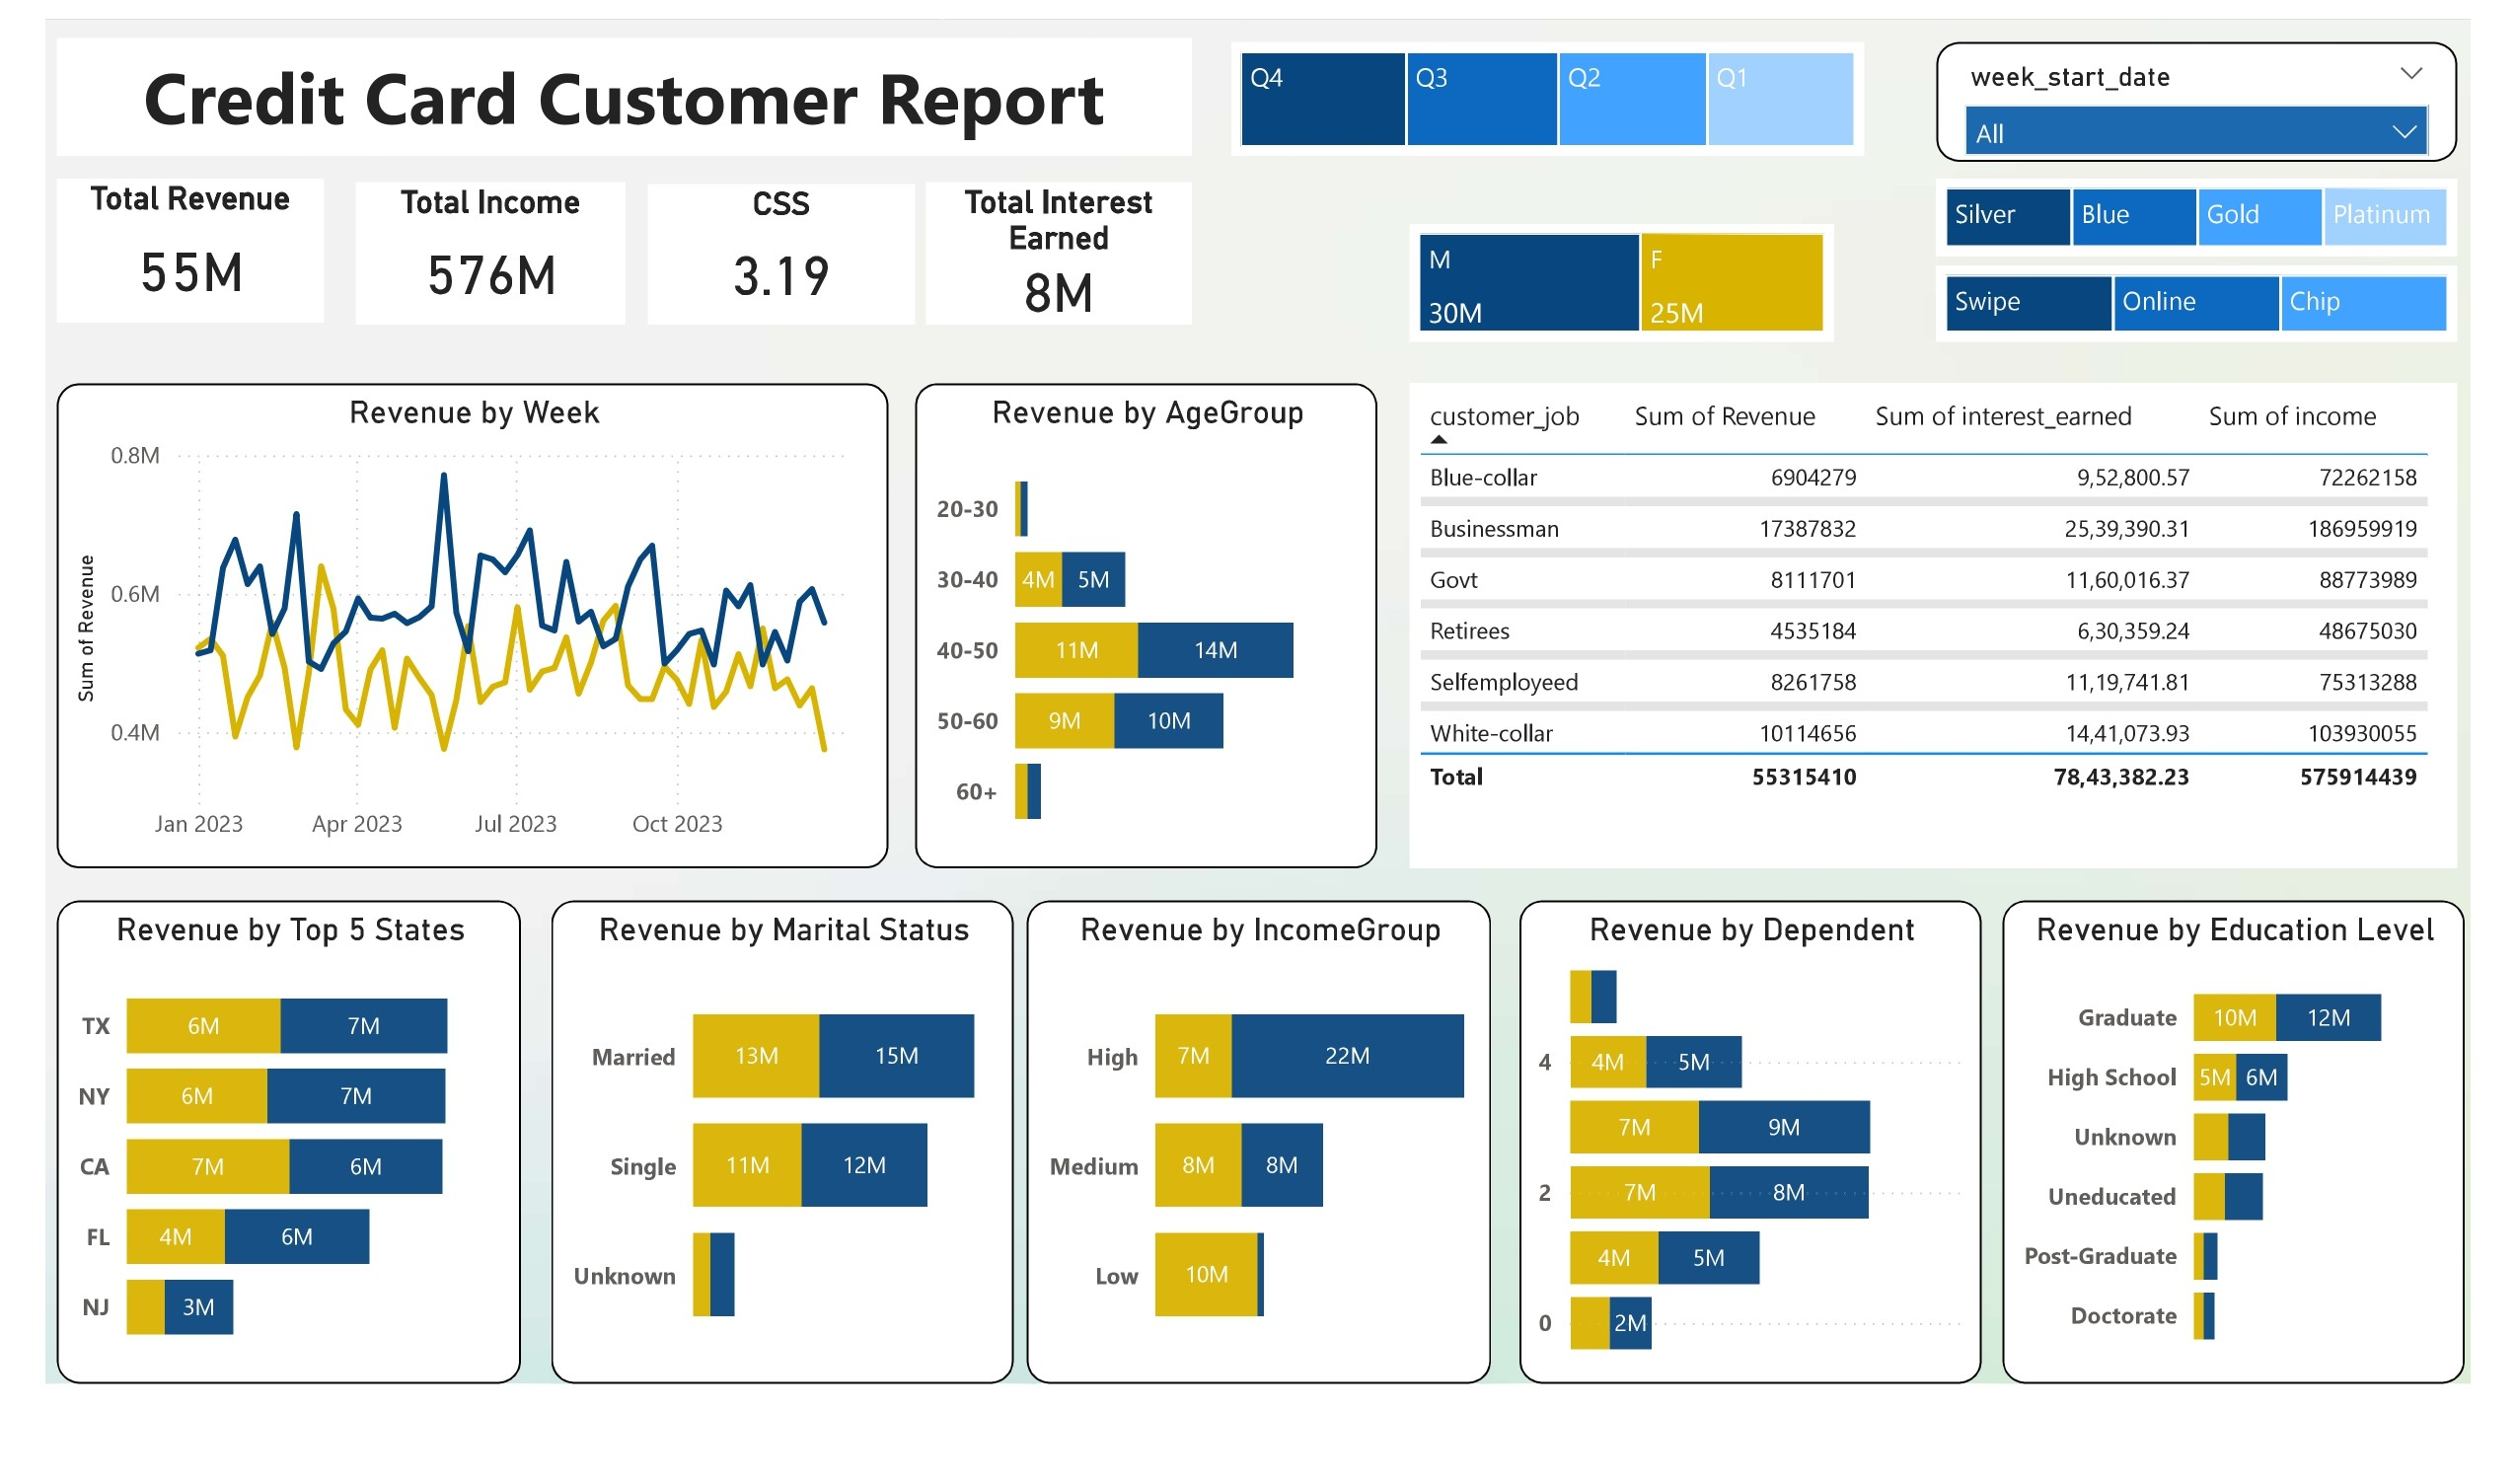

The page's visual inventory and layout, read from the dashboard file:
{"tool":"powerbi","page":{"name":"Page 3","canvas":[1280,720],"ordinal":2},"visuals":[{"type":"textbox","box":[6.1,9.8,599.2,62.4],"z":0},{"type":"barChart","title":" Revenue by IncomeGroup","fields":{"Y":["Sum(public cc_detail.Revenue)"],"Category":["public cust_detail.IncomeGroup"],"Series":["public cust_detail.gender"]},"box":[518.5,464.7,244.6,255.6],"z":1000},{"type":"tableEx","fields":{"Values":["public cust_detail.customer_job","Sum(public cc_detail.Revenue)","Sum(public cc_detail.interest_earned)","Sum(public cust_detail.income)"]},"box":[720.2,192,552.7,255.6],"z":2000},{"type":"card","title":" Total Revenue","fields":{"Values":["Sum(public cc_detail.Revenue)"]},"box":[6.1,84.4,140.6,75.8],"z":3000},{"type":"card","title":"CSS","fields":{"Values":["Avg(public cust_detail.cust_satisfaction_score)"]},"box":[317.9,86.8,140.6,74.6],"z":4000},{"type":"card","title":"Total Interest Earned","fields":{"Values":["Sum(public cc_detail.interest_earned)"]},"box":[464.7,85.6,140.6,75.8],"z":5000},{"type":"card","title":"Total Income","fields":{"Values":["Sum(public cust_detail.income)"]},"box":[163.9,85.6,141.8,75.8],"z":6000},{"type":"slicer","fields":{"Values":["public cc_detail.week_start_date"]},"box":[997.8,12.2,275.1,62.4],"z":7000},{"type":"treemap","fields":{"Group":["public cc_detail.qtr"],"Values":["Avg(public cust_detail.client_num)"]},"box":[626.1,12.2,333.8,59.9],"z":8000},{"type":"treemap","fields":{"Group":["public cc_detail.card_category"],"Values":["Avg(public cust_detail.client_num)"]},"box":[997.8,84.4,275.1,40.4],"z":9000},{"type":"lineChart","title":"Revenue by Week","fields":{"Y":["Sum(public cc_detail.Revenue)"],"Series":["public cust_detail.gender"],"Category":["public cc_detail.week_start_date.Variation.Date Hierarchy.Year","public cc_detail.week_start_date.Variation.Date Hierarchy.Month","public cc_detail.week_start_date.Variation.Date Hierarchy.Day"]},"box":[6.1,192,439,255.6],"z":10000},{"type":"treemap","fields":{"Group":["public cust_detail.gender"],"Values":["Sum(public cc_detail.Revenue)"]},"box":[720.2,107.6,223.8,62.4],"z":11000},{"type":"barChart","title":" Revenue by AgeGroup","fields":{"Y":["Sum(public cc_detail.Revenue)"],"Category":["public cust_detail.AgeGroup"],"Series":["public cust_detail.gender"]},"box":[458.6,192,244.6,255.6],"z":12000},{"type":"barChart","title":" Revenue by Dependent","fields":{"Y":["Sum(public cc_detail.Revenue)"],"Category":["public cust_detail.dependent_count"],"Series":["public cust_detail.gender"]},"box":[777.7,464.7,244.6,255.6],"z":13000},{"type":"barChart","title":" Revenue by Education Level","fields":{"Y":["Sum(public cc_detail.Revenue)"],"Category":["public cust_detail.education_level"],"Series":["public cust_detail.gender"]},"box":[1033.3,464.7,244,255.6],"z":14000},{"type":"barChart","title":" Revenue by Top 5 States","fields":{"Y":["Sum(public cc_detail.Revenue)"],"Category":["public cust_detail.state_cd"],"Series":["public cust_detail.gender"]},"box":[6.1,464.7,244.6,255.6],"z":15000},{"type":"barChart","title":" Revenue by Marital Status","fields":{"Y":["Sum(public cc_detail.Revenue)"],"Category":["public cust_detail.marital_status"],"Series":["public cust_detail.gender"]},"box":[266.6,464.7,244.6,255.6],"z":16000},{"type":"treemap","fields":{"Group":["public cc_detail.use_chip"],"Values":["Avg(public cust_detail.client_num)"]},"box":[997.8,129.6,275.1,40.4],"z":17000}]}

Visuals, with their boxes on the page's 1280x720 design canvas (x1, y1, x2, y2). These are canvas units, not pixel positions in the 2516x1484 screenshot, which may show the page scaled, cropped or inside an application window:
textbox: (left=6, top=10, right=605, bottom=72)
" Revenue by IncomeGroup" barChart: (left=518, top=465, right=763, bottom=720)
tableEx - public cust_detail.customer_job x Sum(public cc_detail.Revenue): (left=720, top=192, right=1273, bottom=448)
" Total Revenue" card: (left=6, top=84, right=147, bottom=160)
"CSS" card: (left=318, top=87, right=458, bottom=161)
"Total Interest Earned" card: (left=465, top=86, right=605, bottom=161)
"Total Income" card: (left=164, top=86, right=306, bottom=161)
slicer - public cc_detail.week_start_date: (left=998, top=12, right=1273, bottom=75)
treemap - public cc_detail.qtr x Avg(public cust_detail.client_num): (left=626, top=12, right=960, bottom=72)
treemap - public cc_detail.card_category x Avg(public cust_detail.client_num): (left=998, top=84, right=1273, bottom=125)
"Revenue by Week" lineChart: (left=6, top=192, right=445, bottom=448)
treemap - public cust_detail.gender x Sum(public cc_detail.Revenue): (left=720, top=108, right=944, bottom=170)
" Revenue by AgeGroup" barChart: (left=459, top=192, right=703, bottom=448)
" Revenue by Dependent" barChart: (left=778, top=465, right=1022, bottom=720)
" Revenue by Education Level" barChart: (left=1033, top=465, right=1277, bottom=720)
" Revenue by Top 5 States" barChart: (left=6, top=465, right=251, bottom=720)
" Revenue by Marital Status" barChart: (left=267, top=465, right=511, bottom=720)
treemap - public cc_detail.use_chip x Avg(public cust_detail.client_num): (left=998, top=130, right=1273, bottom=170)
